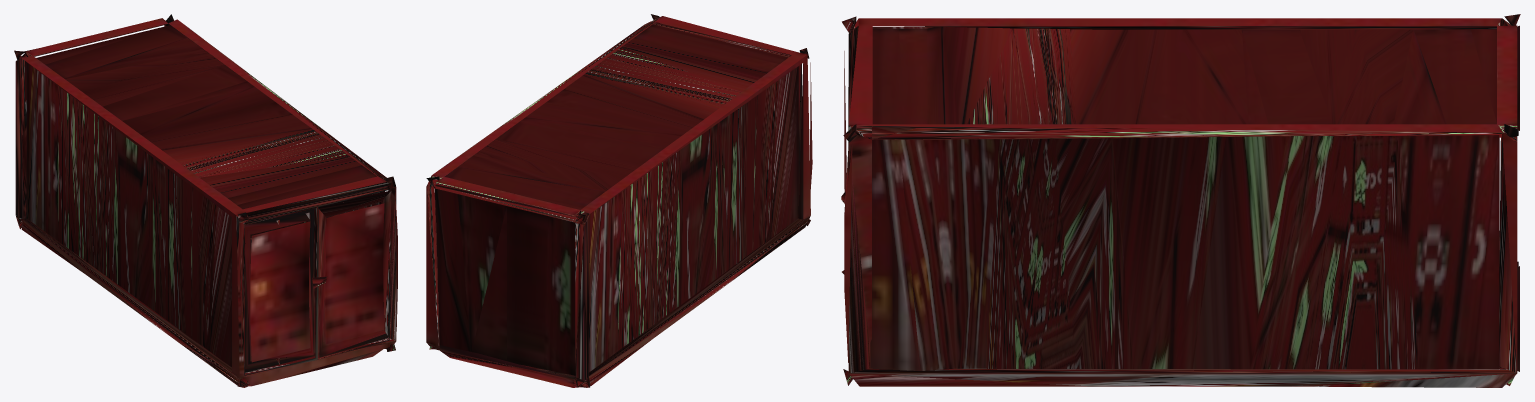
File: m_cont.glb
The picture shows the model from 3 angles, left to right: view 1: azimuth 30°, elevation 25°; view 2: azimuth 150°, elevation 25°; view 3: azimuth 270°, elevation 25°; orthographic projection. The views are drawn at different scales.
Visible parts, largest first — view 1: body|Material; view 2: body|Material; view 3: body|Material.
Boxes of the visible parts, <box> form: body|Material: <box>14,14,397,387</box>; body|Material: <box>426,14,812,387</box>; body|Material: <box>841,14,1520,387</box>.
Size of the model in its own units: 2.42 by 2.56 by 6.06.
Materials: 1 (1 with a texture image).
